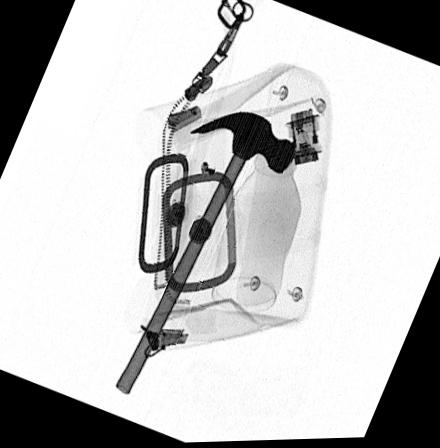Hammer: (115, 111, 297, 396)
